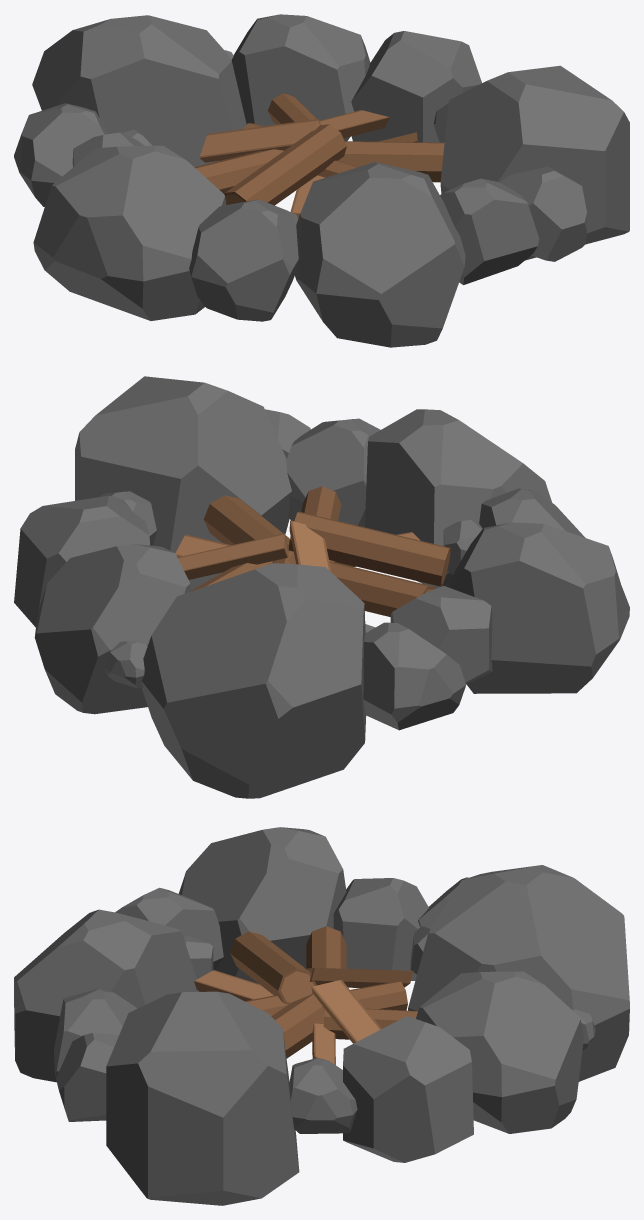
Rendered from Fireplace_01.fbx.
The picture shows the model from 3 angles, top to bottom: view 1: azimuth 30°, elevation 25°; view 2: azimuth 150°, elevation 25°; view 3: azimuth 270°, elevation 25°; orthographic projection. The views are drawn at different scales.
Parts seen in each view (by area): view 1: Fireplace_01_LOD0; view 2: Fireplace_01_LOD0; view 3: Fireplace_01_LOD0.
Part boxes in pixels (left/top/right/bottom): Fireplace_01_LOD0: left=14, top=14, right=629, bottom=347; Fireplace_01_LOD0: left=14, top=376, right=629, bottom=798; Fireplace_01_LOD0: left=14, top=827, right=629, bottom=1205.
Size of what is drawn, in the model's own units: 0.6371 by 0.2022 by 0.6174.
